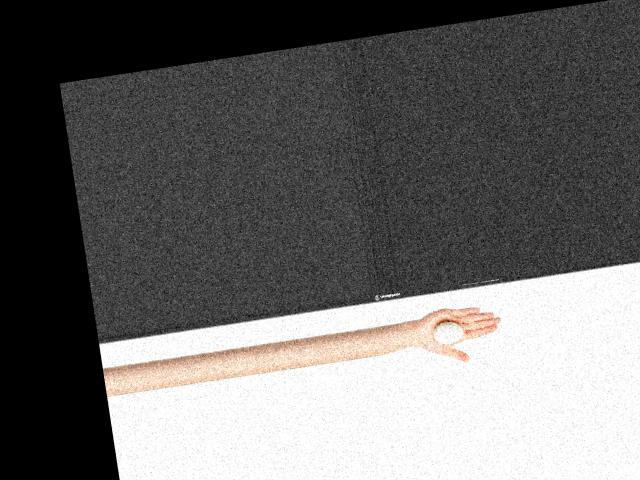egg: (432, 320, 465, 345)
